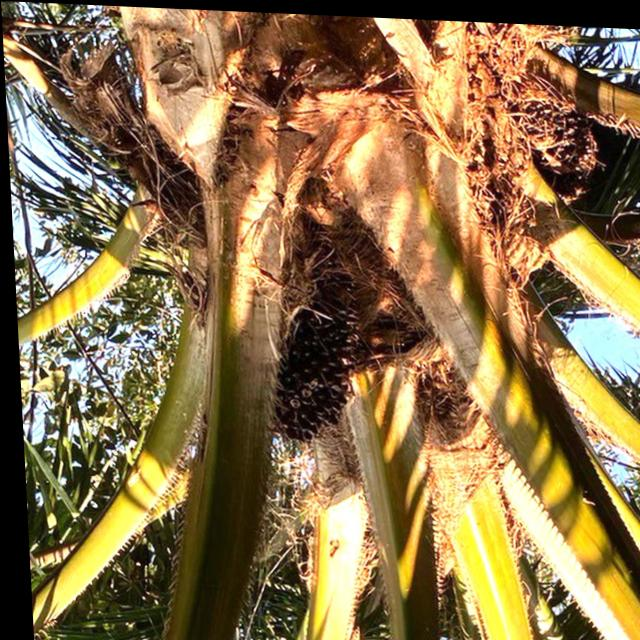almost: (250, 262, 371, 454)
